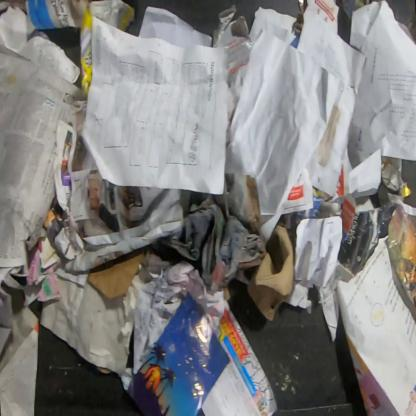cardboard: (246, 222, 295, 323), (212, 4, 254, 88), (87, 245, 147, 300)
